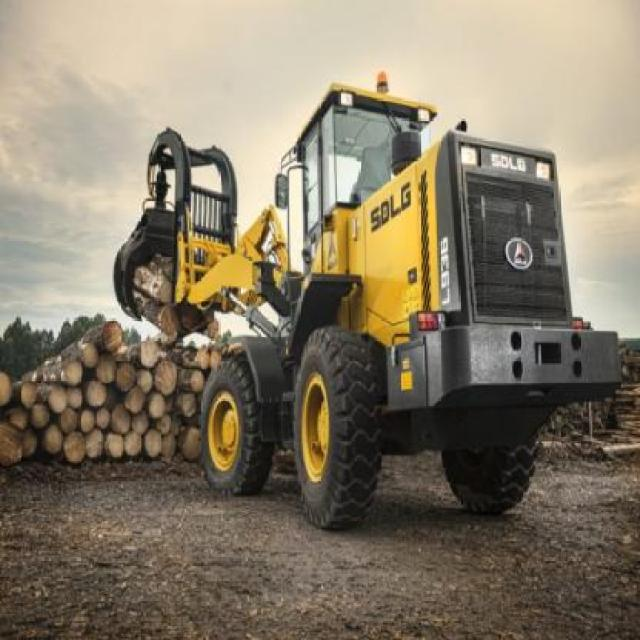buldozerpayloadergrader: (162, 63, 628, 539)
